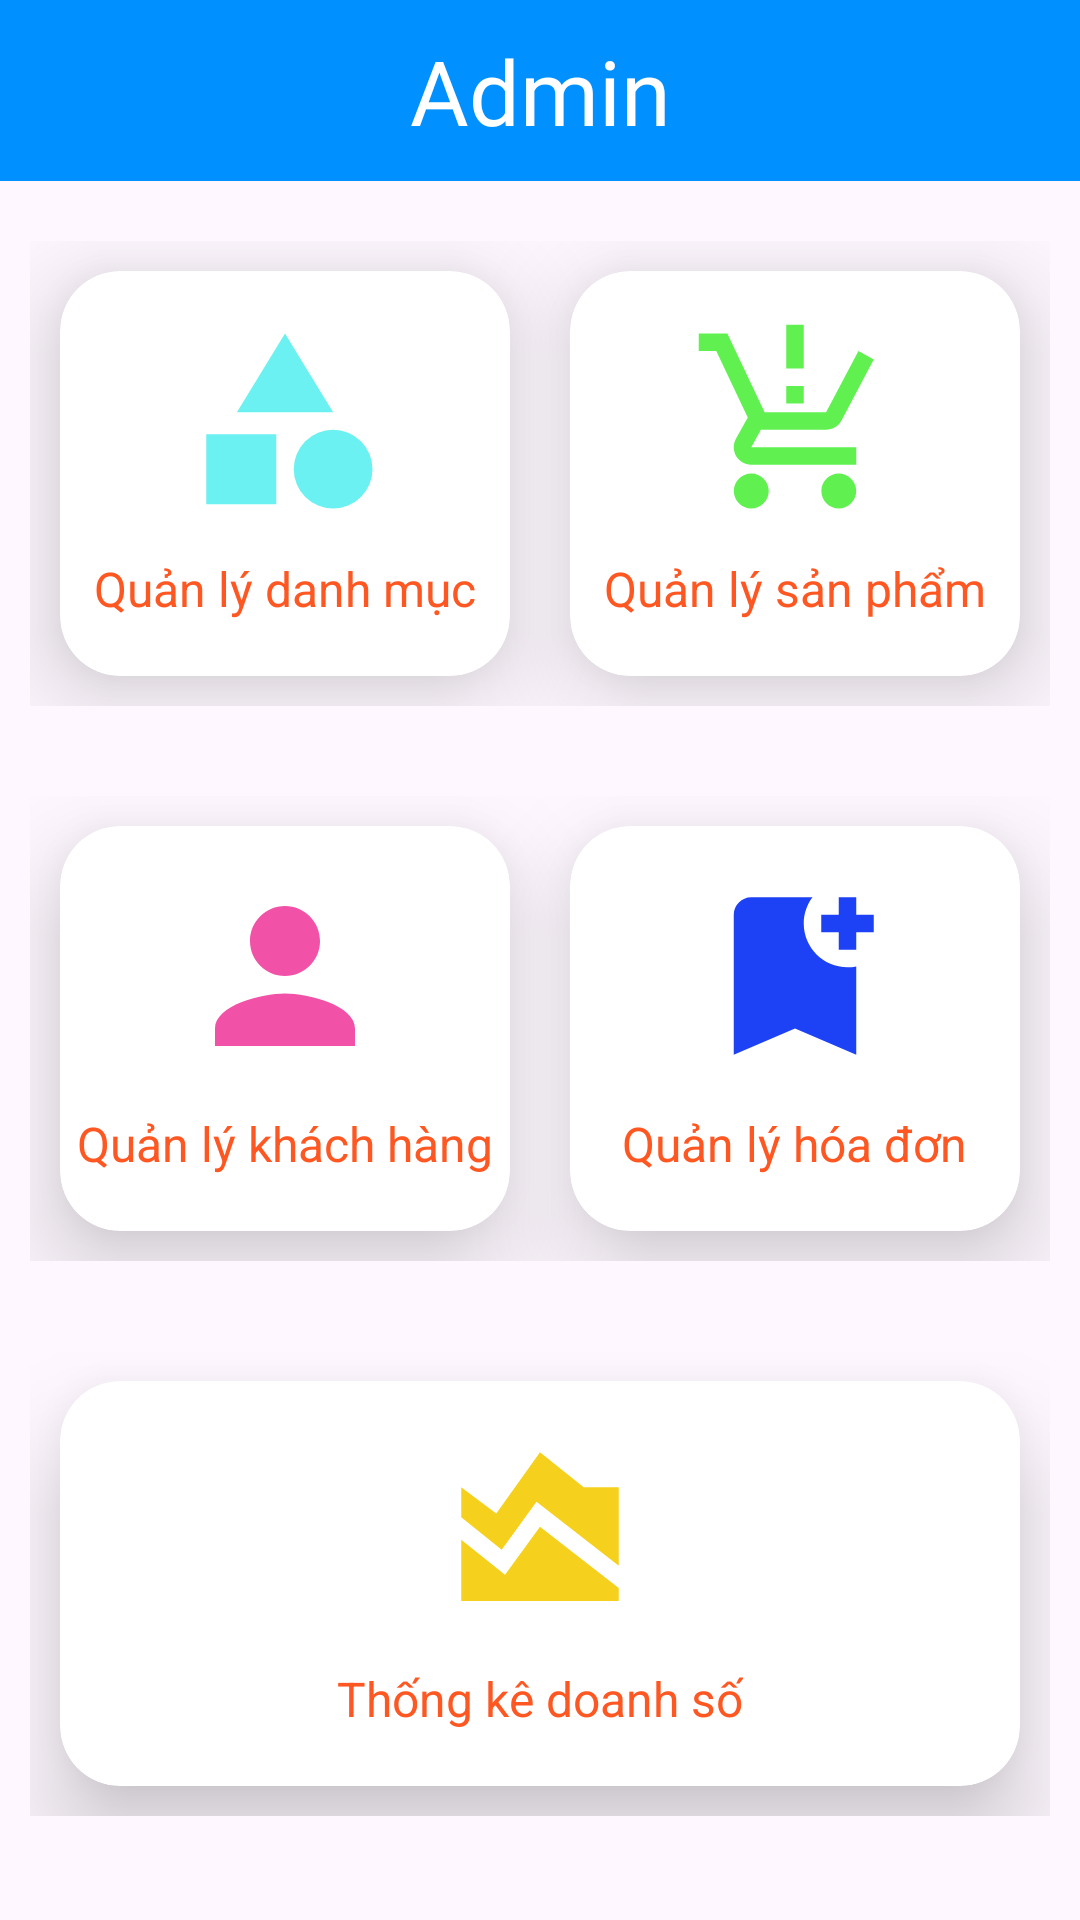

Where to tap for icons on this 1080 × 1920 app screen, as point (x, y):
category: point (289, 421)
chart: point (540, 1526)
person: point (285, 976)
produc: point (786, 416)
